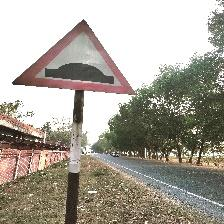Speed-breaker: (12, 19, 136, 94)
